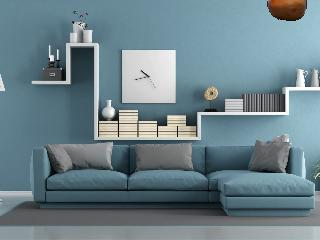potato: (266, 0, 305, 22)
